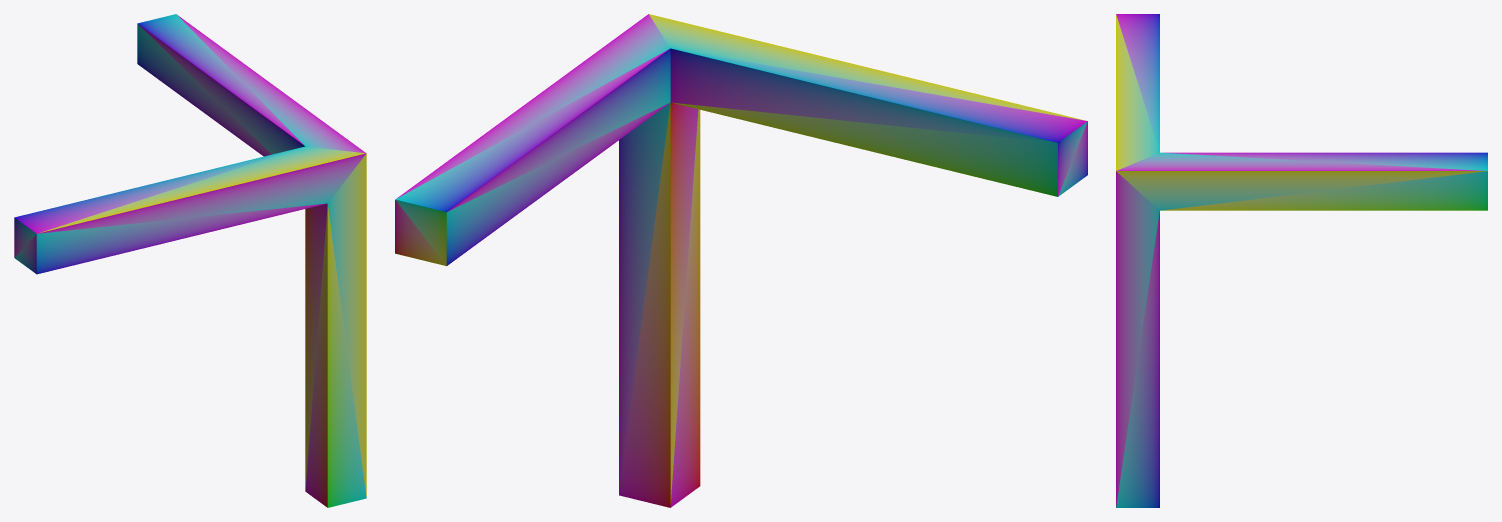
The model's file is MRTK_BoundingBox_ScaleWidget_Original.fbx.
The picture shows the model from 3 angles, left to right: view 1: azimuth 30°, elevation 25°; view 2: azimuth 150°, elevation 25°; view 3: azimuth 270°, elevation 25°; orthographic projection. The views are drawn at different scales.
Parts seen in each view (by area): view 1: shl_adjustBoxScaleWidget_16mmx2mm; view 2: shl_adjustBoxScaleWidget_16mmx2mm; view 3: shl_adjustBoxScaleWidget_16mmx2mm.
Part boxes in pixels (left/top/right/bottom): shl_adjustBoxScaleWidget_16mmx2mm: left=14, top=14, right=366, bottom=507; shl_adjustBoxScaleWidget_16mmx2mm: left=395, top=14, right=1087, bottom=507; shl_adjustBoxScaleWidget_16mmx2mm: left=1116, top=14, right=1487, bottom=507.
Bounding box in the file's own units: 1.7 × 1.7 × 1.7.
